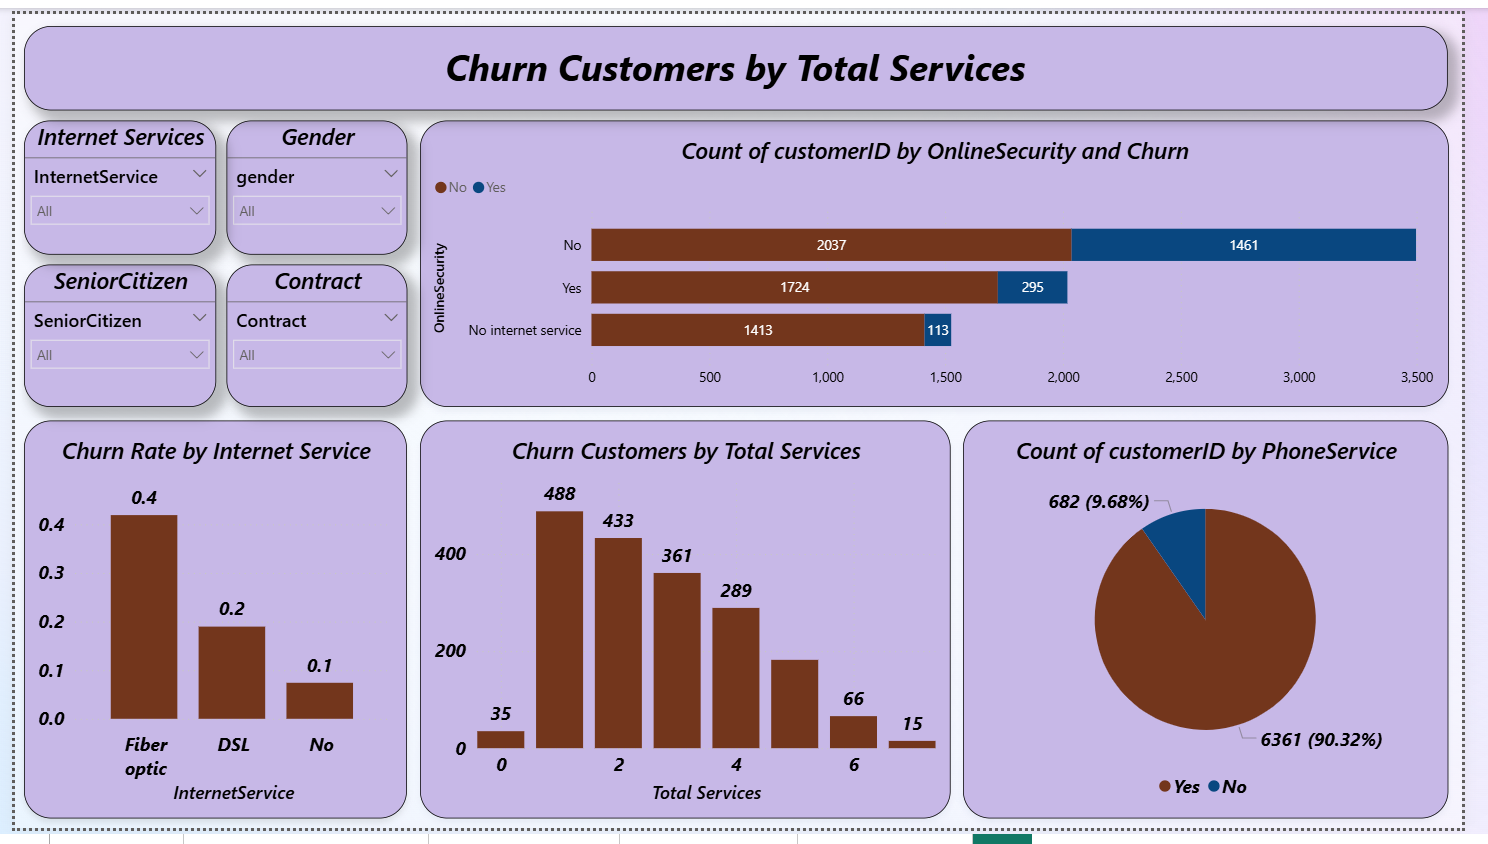

The dashboard page shown, as its layout file describes it:
{"tool":"powerbi","page":{"name":"Service Analysis","canvas":[1280,720],"ordinal":2},"visuals":[{"type":"pieChart","fields":{"Category":["WA_Fn-UseC_-Telco-Customer-Churn.PhoneService"],"Y":["CountNonNull(WA_Fn-UseC_-Telco-Customer-Churn.customerID)"]},"box":[838.9,359.5,429.2,352.2],"z":0},{"type":"clusteredColumnChart","title":"Churn Rate by Internet Service","fields":{"Category":["WA_Fn-UseC_-Telco-Customer-Churn.InternetService"],"Y":["WA_Fn-UseC_-Telco-Customer-Churn.Churn Rate"]},"box":[8.6,359.5,338.7,352.2],"z":1000},{"type":"barChart","fields":{"Series":["WA_Fn-UseC_-Telco-Customer-Churn.Churn"],"Category":["WA_Fn-UseC_-Telco-Customer-Churn.OnlineSecurity"],"Y":["CountNonNull(WA_Fn-UseC_-Telco-Customer-Churn.customerID)"]},"box":[358.3,94.2,909.8,253.1],"z":2000},{"type":"clusteredColumnChart","title":"Churn Customers by Total Services","fields":{"Category":["WA_Fn-UseC_-Telco-Customer-Churn.Total Services"],"Y":["WA_Fn-UseC_-Telco-Customer-Churn.churn customers"]},"box":[358.3,359.5,469.6,352.2],"z":3000},{"type":"slicer","title":"Gender","fields":{"Values":["WA_Fn-UseC_-Telco-Customer-Churn.gender"]},"box":[187.1,94.2,160.2,118.6],"z":4000},{"type":"slicer","title":"SeniorCitizen","fields":{"Values":["WA_Fn-UseC_-Telco-Customer-Churn.SeniorCitizen"]},"box":[8.6,221.3,170,126],"z":5000},{"type":"slicer","title":"Internet Services","fields":{"Values":["WA_Fn-UseC_-Telco-Customer-Churn.InternetService"]},"box":[8.6,94.2,170,118.6],"z":6000},{"type":"slicer","title":"Contract","fields":{"Values":["WA_Fn-UseC_-Telco-Customer-Churn.Contract"]},"box":[187.1,221.3,160.2,126],"z":7000},{"type":"textbox","box":[8.6,11,1259.5,74.6],"z":8000}]}

Visuals, with their boxes in screenshot pixels (x1, y1, x2, y2), scaled from the page's 1280x720 canvas onto the 1488x844 screenshot:
pieChart - WA_Fn-UseC_-Telco-Customer-Churn.PhoneService x CountNonNull(WA_Fn-UseC_-Telco-Customer-Churn.customerID): (975, 421, 1474, 834)
"Churn Rate by Internet Service" clusteredColumnChart: (10, 421, 404, 834)
barChart - WA_Fn-UseC_-Telco-Customer-Churn.Churn x WA_Fn-UseC_-Telco-Customer-Churn.OnlineSecurity: (417, 110, 1474, 407)
"Churn Customers by Total Services" clusteredColumnChart: (417, 421, 962, 834)
"Gender" slicer: (218, 110, 404, 249)
"SeniorCitizen" slicer: (10, 259, 208, 407)
"Internet Services" slicer: (10, 110, 208, 249)
"Contract" slicer: (218, 259, 404, 407)
textbox: (10, 13, 1474, 100)
